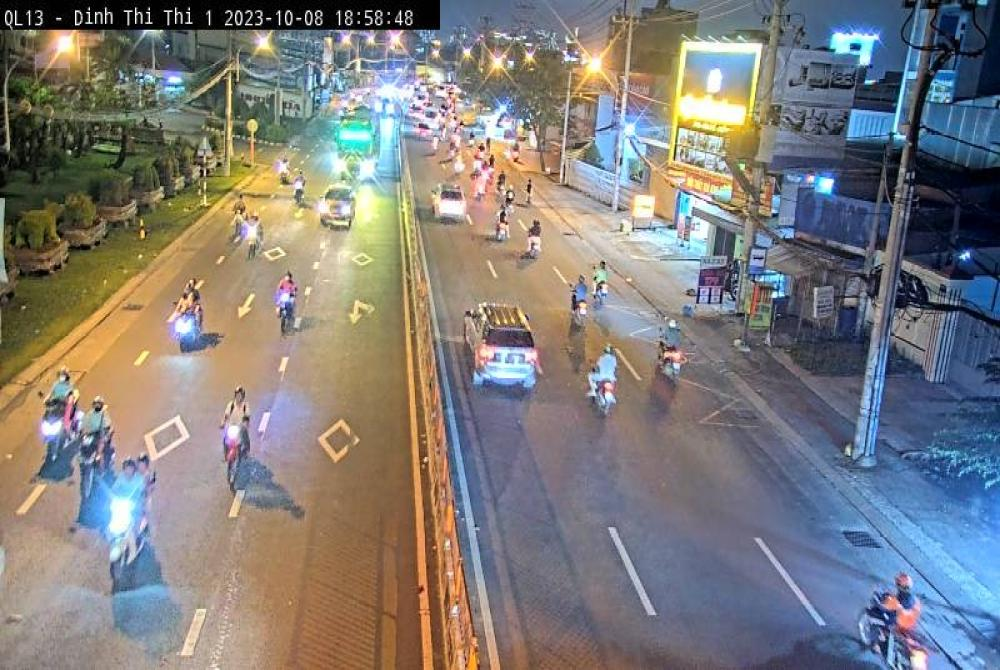car: (463, 300, 540, 390)
